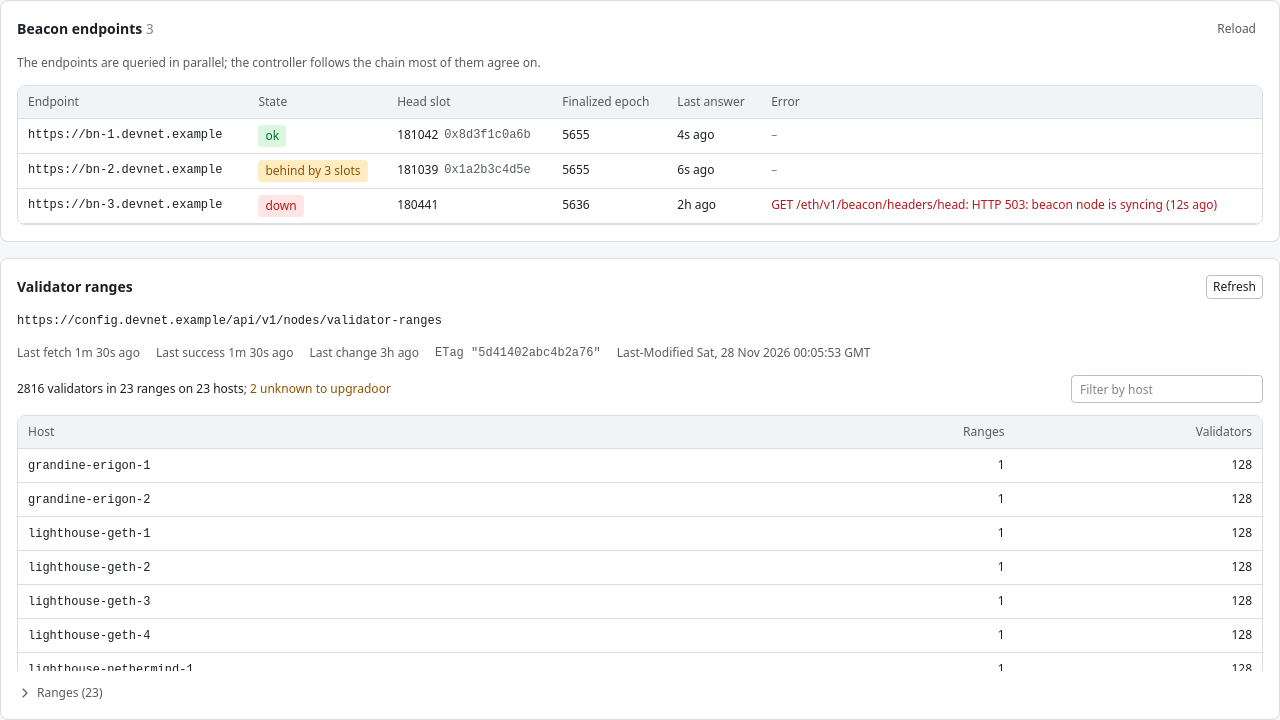
DataSourcesTab › refreshes the validator ranges and says what came of it
Click the button "Refresh": (1234, 287) x1=1206 y1=275 x2=1263 y2=299
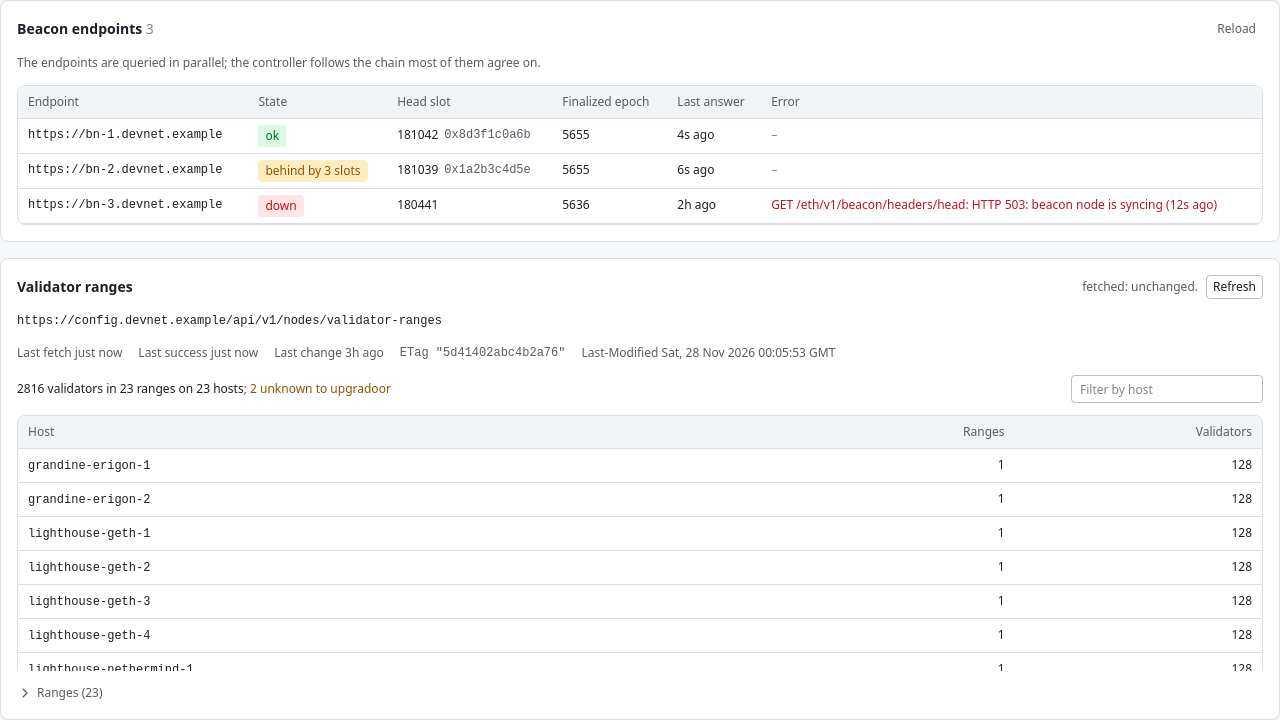
Check: the message reads "fetched: unchanged.", box x1=1082 y1=278 x2=1198 y2=295
Again right away: within the floor, nothing is fetched.
Click the button "Refresh": (1234, 287) x1=1206 y1=275 x2=1263 y2=299
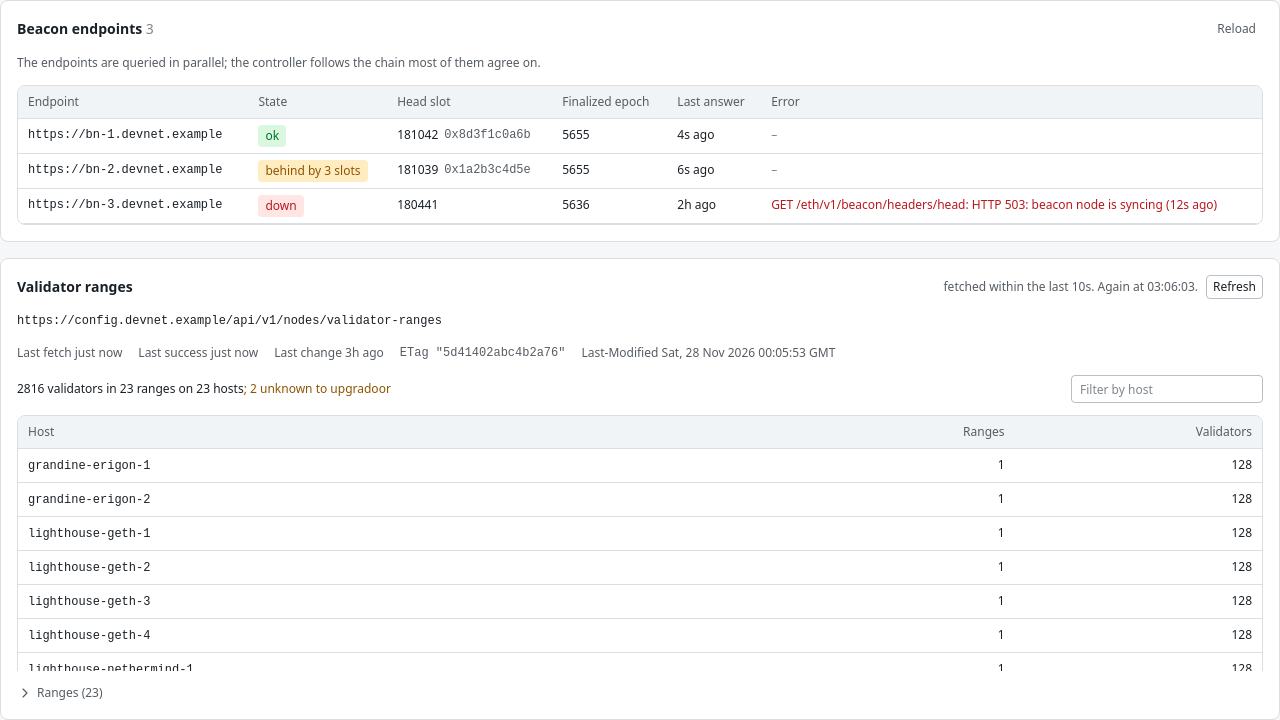
Check: the message shows "fetched within the last 10s. Again at", box x1=944 y1=278 x2=1198 y2=295
